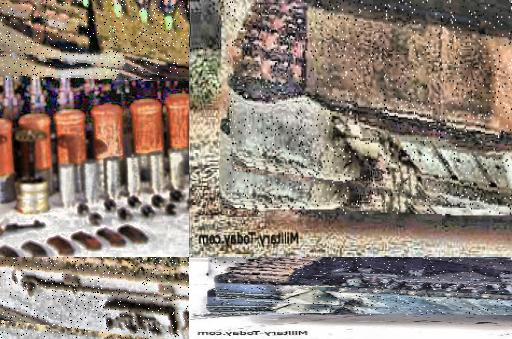tanks: (228, 1, 512, 215), (215, 258, 512, 315), (1, 258, 190, 339), (1, 1, 190, 79)
